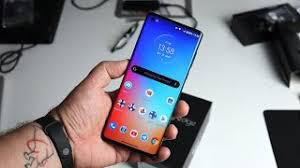Hand: (73, 62, 188, 167)
Smartphone: (100, 22, 202, 144)
